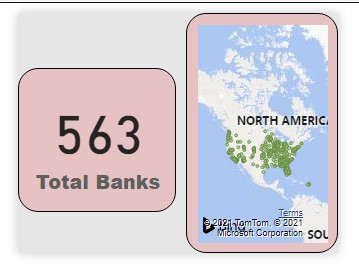

The page's visual inventory and layout, read from the dashboard file:
{"tool":"powerbi","page":{"name":"Report Toltrip","canvas":[320,240],"ordinal":1},"visuals":[{"type":"card","fields":{"Values":["FDIC Failed Bank.Total Banks"]},"box":[0,55,158,144],"z":0},{"type":"map","fields":{"Category":["FDIC Failed Bank.City ST"],"Size":["FDIC Failed Bank.Total Banks"]},"box":[168,0,152,240],"z":1000}]}

Visuals, with their boxes in screenshot pixels (x1, y1, x2, y2), scaled from the page's 320x240 canvas onto the 359x267 screenshot:
card - FDIC Failed Bank.Total Banks: (left=0, top=61, right=177, bottom=221)
map - FDIC Failed Bank.City ST x FDIC Failed Bank.Total Banks: (left=188, top=0, right=358, bottom=266)
